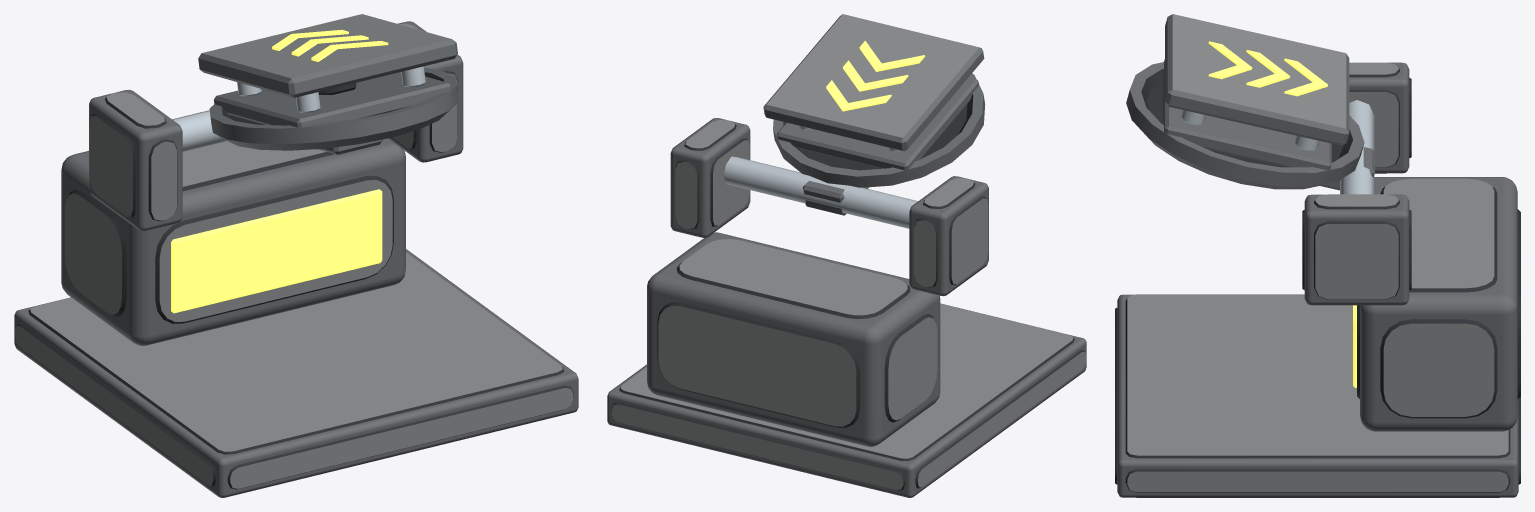
File: R4X_KnockbackTrapDeployer.glb
3 renders of one model, left to right at view 1: azimuth 30°, elevation 25°; view 2: azimuth 150°, elevation 25°; view 3: azimuth 270°, elevation 25°, orthographic. The views are drawn at different scales.
Visible parts, largest first — view 1: R4X_KnockbackTrapDeployer_Body; view 2: R4X_KnockbackTrapDeployer_Body; view 3: R4X_KnockbackTrapDeployer_Body.
Part boxes in pixels (<box>): R4X_KnockbackTrapDeployer_Body: <box>14,14,578,497</box>; R4X_KnockbackTrapDeployer_Body: <box>607,14,1086,497</box>; R4X_KnockbackTrapDeployer_Body: <box>1115,14,1520,497</box>.
Size of the model in its own units: 0.52 by 0.5171 by 0.52.
